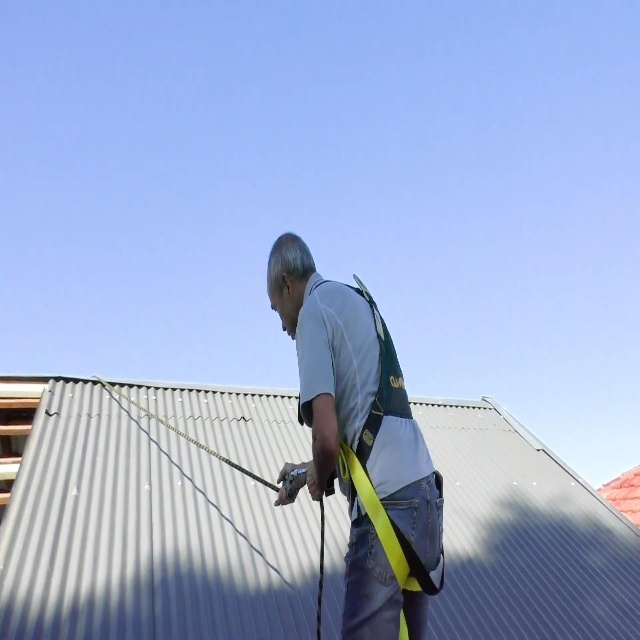Arnes_seguridad: (297, 251, 443, 640)
